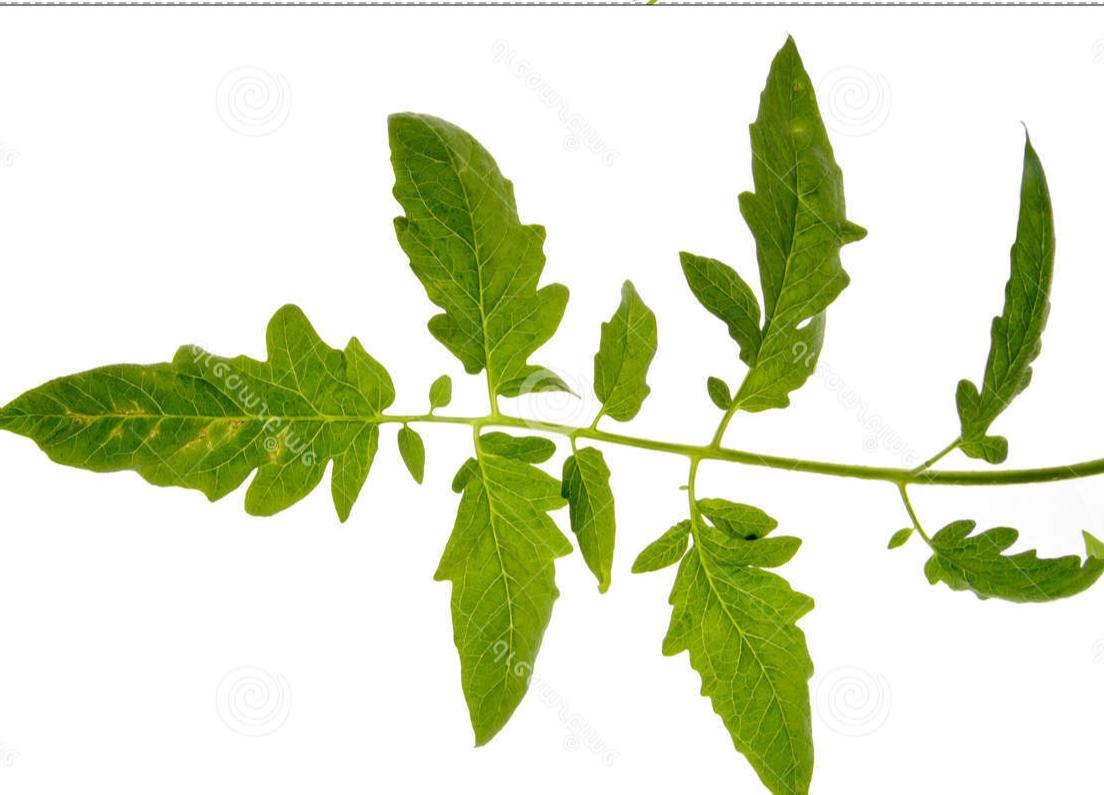Tomato leaf: (0, 264, 400, 544), (342, 55, 599, 423), (669, 14, 877, 440), (611, 474, 838, 795), (435, 412, 586, 794)
